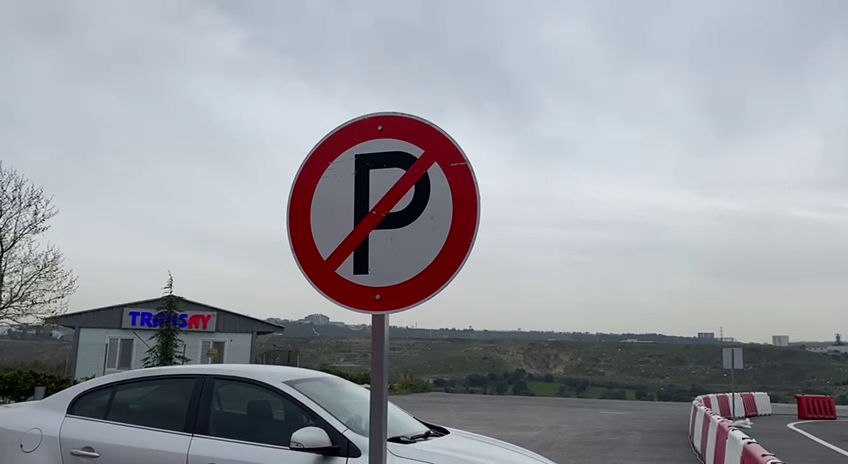noparking: (282, 108, 486, 321)
